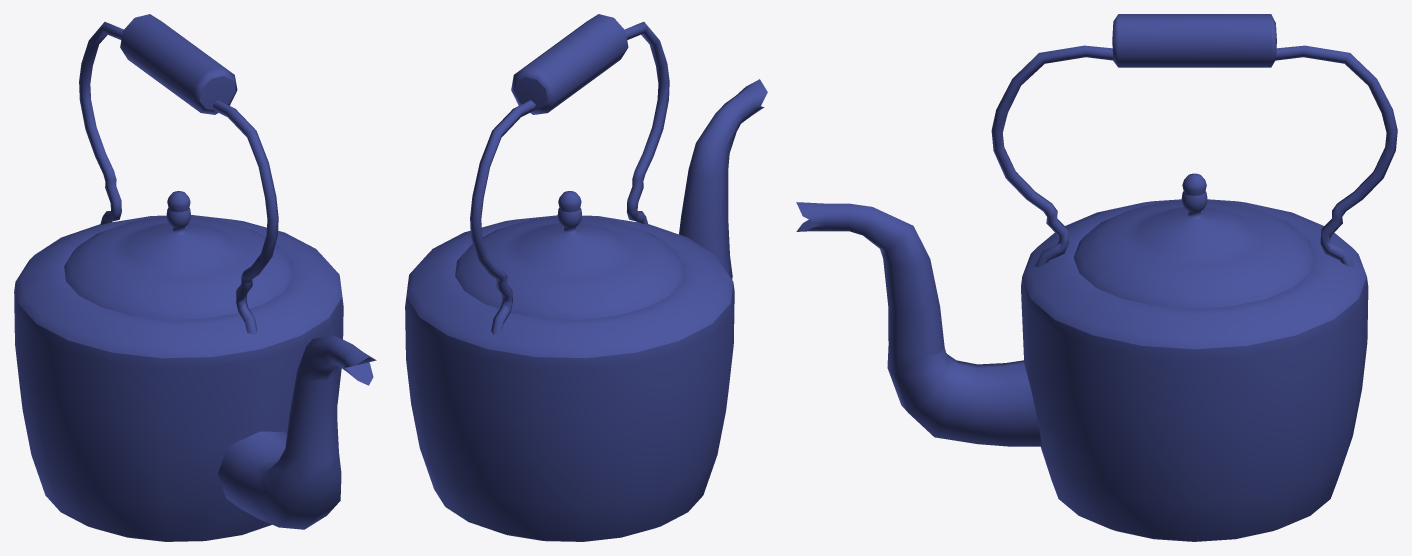
The model's file is Teapot.fbx.
3 views of the same model, side by side, from view 1: azimuth 30°, elevation 25°; view 2: azimuth 150°, elevation 25°; view 3: azimuth 270°, elevation 25° (orthographic). The views are drawn at different scales.
Parts seen in each view (by area): view 1: TeaPot; view 2: TeaPot; view 3: TeaPot.
Boxes of the visible parts, left/top/right/bottom form: TeaPot: left=14, top=14, right=376, bottom=541; TeaPot: left=405, top=14, right=767, bottom=541; TeaPot: left=796, top=14, right=1397, bottom=541.
Bounding box in the file's own units: 36.7 × 54.54 × 63.53.
